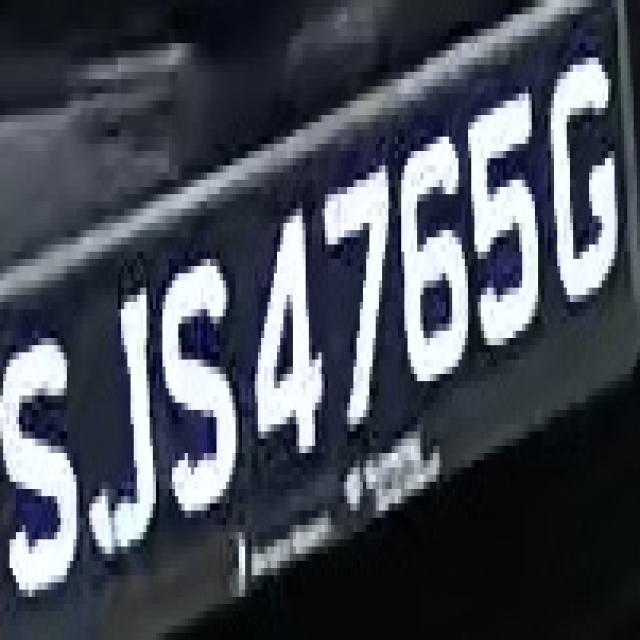4: (245, 202, 328, 496)
5: (465, 72, 551, 381)
6: (398, 130, 474, 396)
7: (318, 158, 388, 475)
G: (535, 29, 630, 316)
J: (83, 281, 172, 568)
S: (153, 223, 239, 554), (6, 316, 86, 626)
